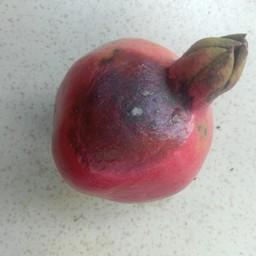Bad_pomegranate: (65, 16, 247, 212)
